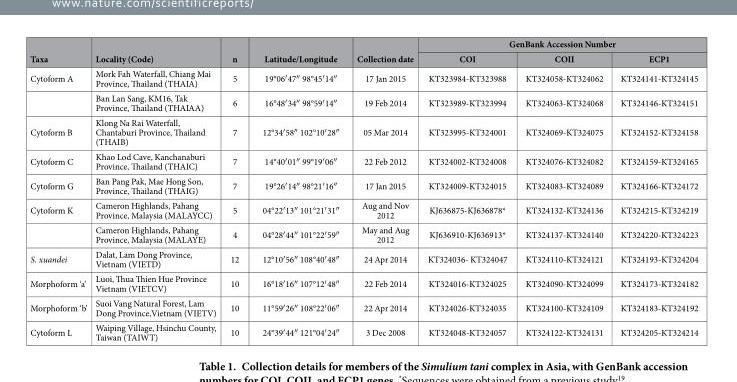table: (29, 37, 697, 342)
table column: (90, 37, 222, 342), (250, 37, 347, 342), (419, 37, 515, 342), (515, 37, 611, 342), (611, 37, 697, 342), (347, 37, 419, 342), (29, 37, 90, 342), (222, 37, 250, 342)
table column header: (29, 37, 697, 65)
table row: (29, 114, 697, 148), (29, 65, 697, 90), (29, 148, 697, 173), (29, 197, 697, 222), (29, 270, 697, 295), (29, 90, 697, 114), (29, 173, 697, 197), (29, 222, 697, 246), (29, 246, 697, 270), (29, 295, 697, 319), (29, 319, 697, 342), (29, 50, 697, 65), (29, 37, 697, 50)
table spanning cell: (90, 37, 222, 65), (419, 37, 697, 50), (29, 65, 90, 114), (29, 197, 90, 246), (250, 37, 347, 65), (347, 37, 419, 65), (29, 37, 90, 65), (222, 37, 250, 65)
